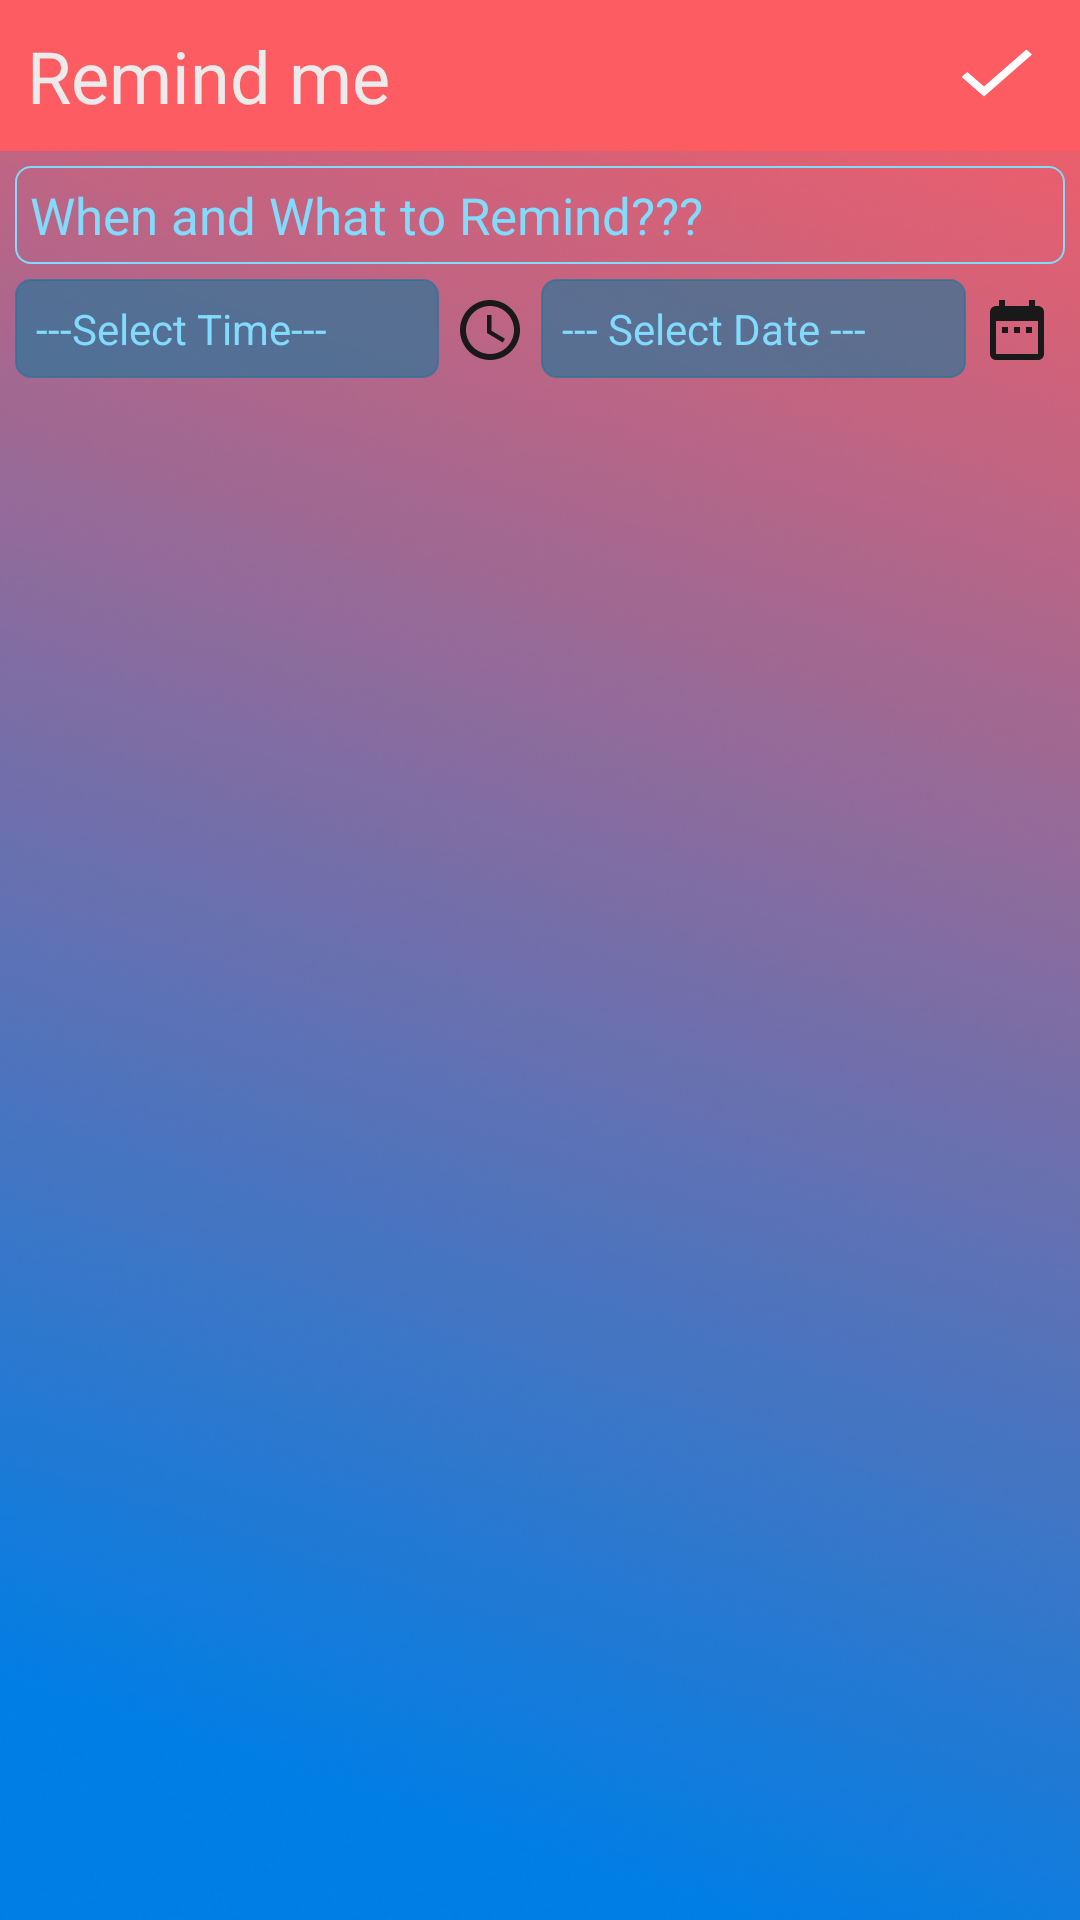

Screen size 1080px x 1920px. Icon name, then its center in pixels as [x,y]:
calender: [1017,330]
submit: [997,72]
watch: [490,330]
